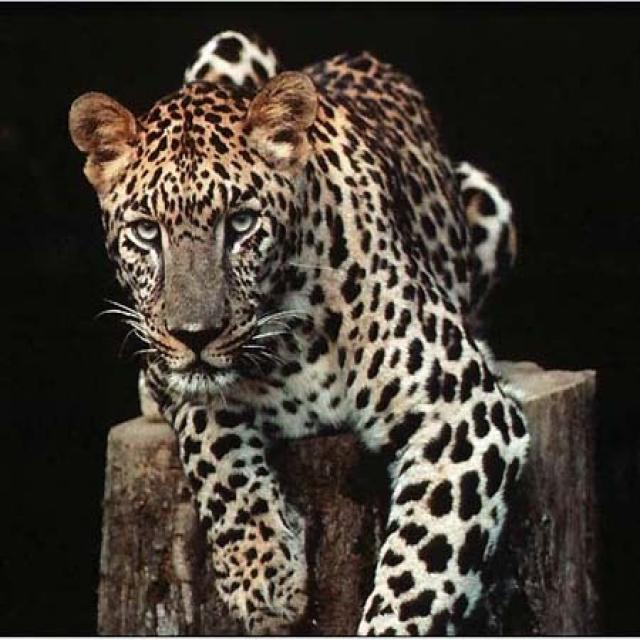Leopard: (66, 28, 528, 634)
